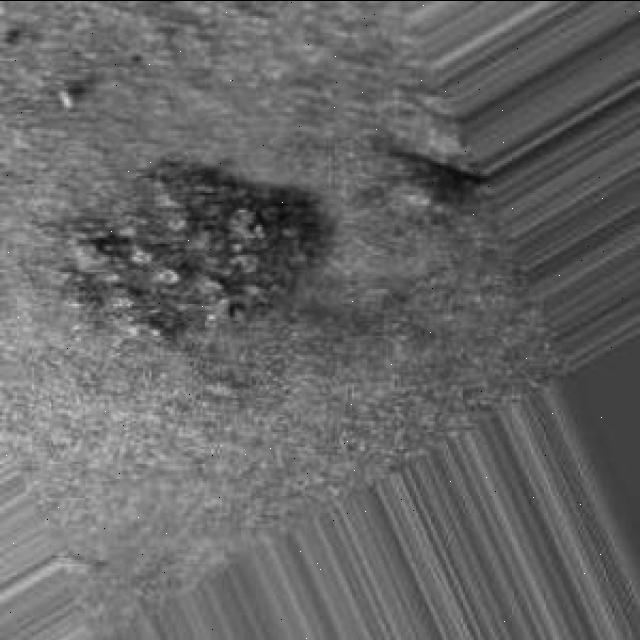Shingles: (41, 162, 326, 346)
